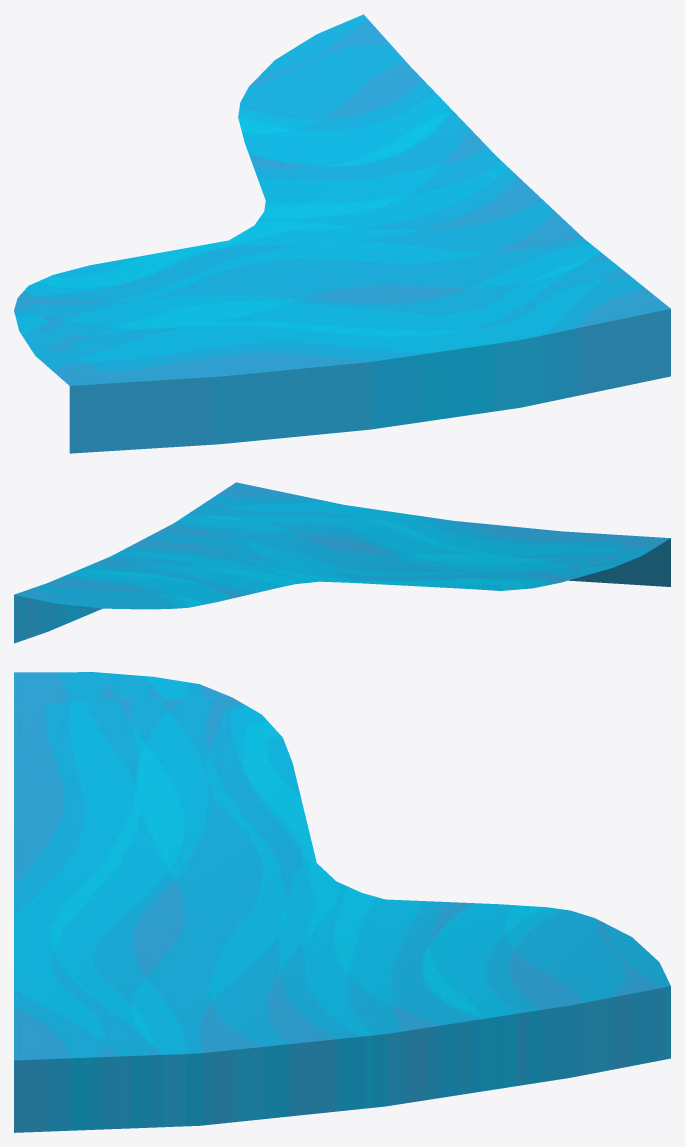
The model's file is ground_water.glb.
3 renders of one model, top to bottom at view 1: azimuth 30°, elevation 25°; view 2: azimuth 150°, elevation 25°; view 3: azimuth 270°, elevation 25°, orthographic. The views are drawn at different scales.
Visible parts, largest first — view 1: ge_water; view 2: ge_water; view 3: ge_water.
Boxes of the visible parts, x1=… form: ge_water: x1=14, y1=14, x2=670, y2=453; ge_water: x1=14, y1=482, x2=670, y2=643; ge_water: x1=14, y1=672, x2=670, y2=1132.
Bounding box in the file's own units: 5.45 × 1.23 × 4.83.
Materials: 1 (1 with a texture image).
